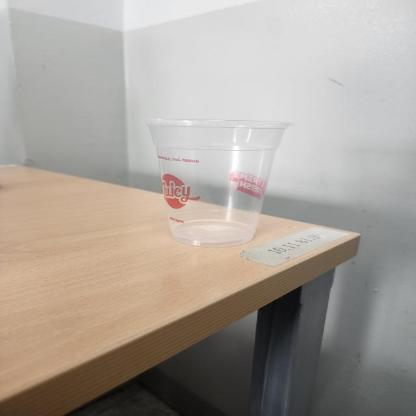Plastic Cup: (142, 116, 298, 248)
